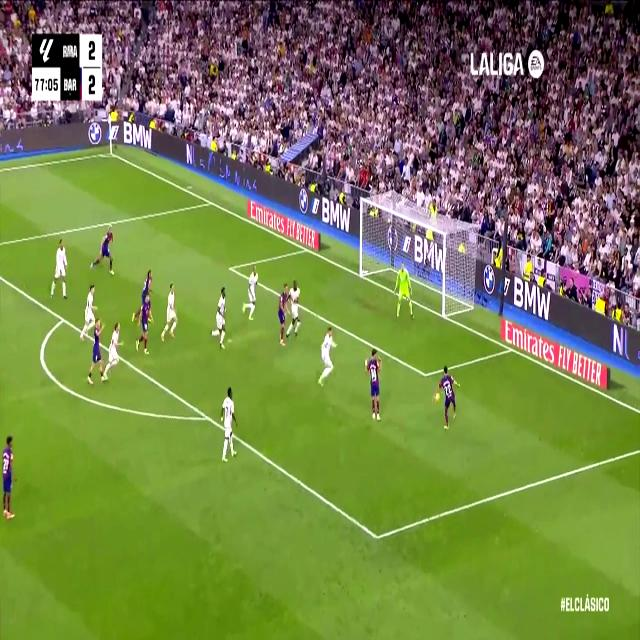bigarea_bottom_inner: (370, 518, 384, 554)
bigarea_top_outter: (206, 193, 214, 210)
bottom_arc_area_intersection: (202, 405, 212, 427)
corner: (106, 146, 116, 159)
smallarea_bottom_inner: (420, 363, 430, 385)
smallarea_bottom_outter: (506, 341, 516, 357)
smallarea_top_inner: (226, 258, 235, 277)
top_arc_area_intersection: (58, 308, 68, 328)
